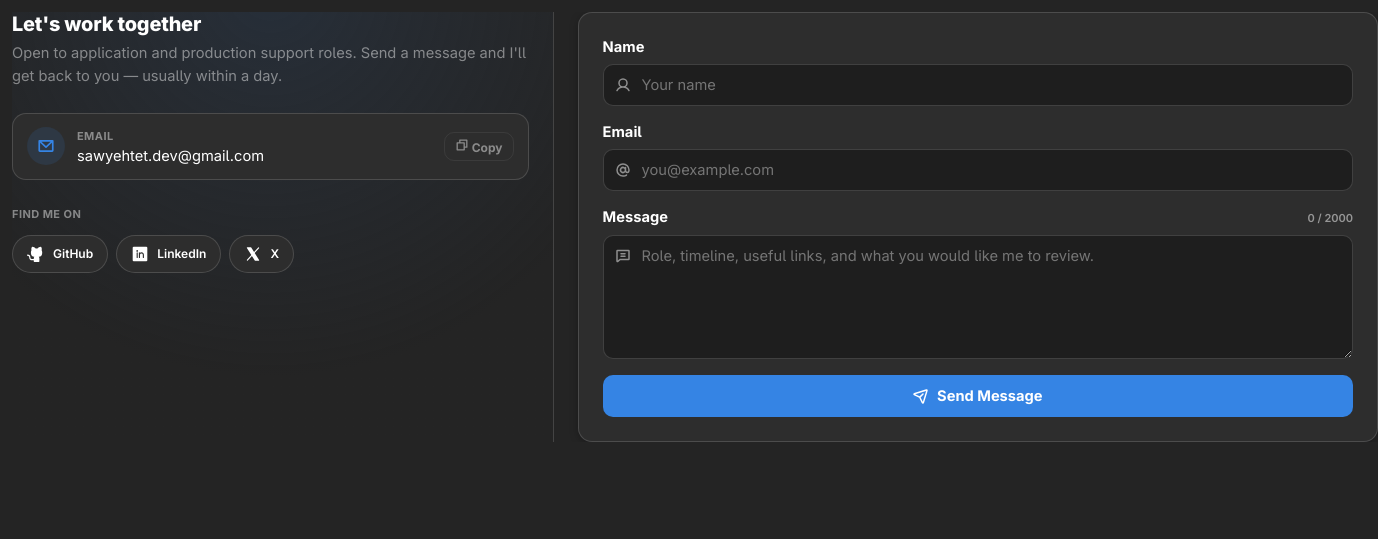
it: ContactApp form validation › shows validation errors when submitting empty form
The image size is (1378, 539).
Click the button "Send Message" at (978, 396), box [603, 375, 1353, 417]
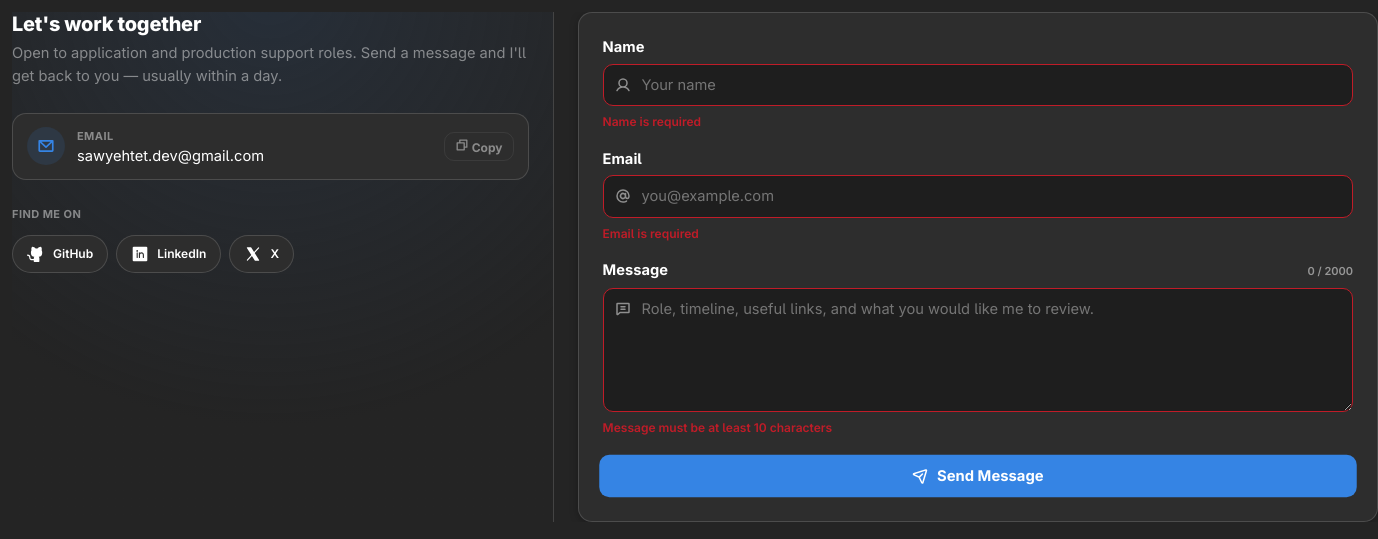
Expected: the text "Name is required" is shown, [603, 114, 701, 129]
Expected: the text "Email is required" is shown, [603, 226, 699, 241]
Expected: the text "Message must be at least 10 characters" is shown, [603, 420, 832, 435]
